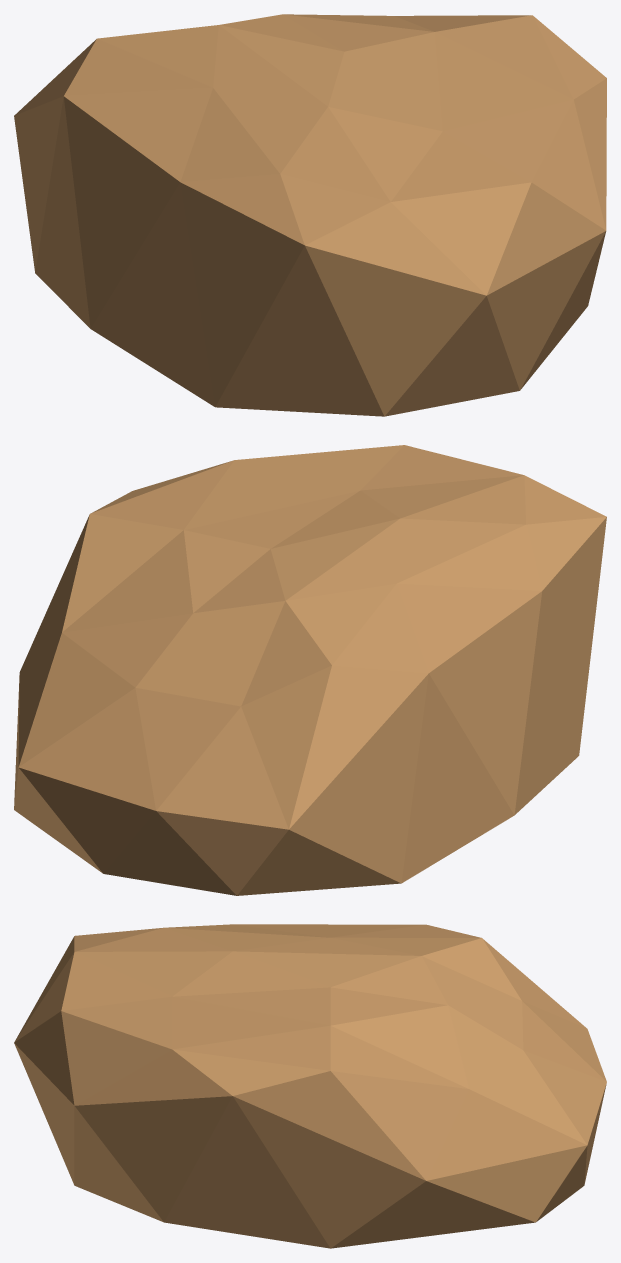
Rendered from Rock Orange 002.fbx.
The picture shows the model from 3 angles, top to bottom: view 1: azimuth 30°, elevation 25°; view 2: azimuth 150°, elevation 25°; view 3: azimuth 270°, elevation 25°; orthographic projection. The views are drawn at different scales.
Visible parts, largest first — view 1: Rock 002.004; view 2: Rock 002.004; view 3: Rock 002.004.
Part boxes in pixels (x1,y1,x2,y2): Rock 002.004: (14,14,606,416); Rock 002.004: (14,445,606,895); Rock 002.004: (14,924,606,1248).
Bounding box in the file's own units: 316 × 157 × 431.
